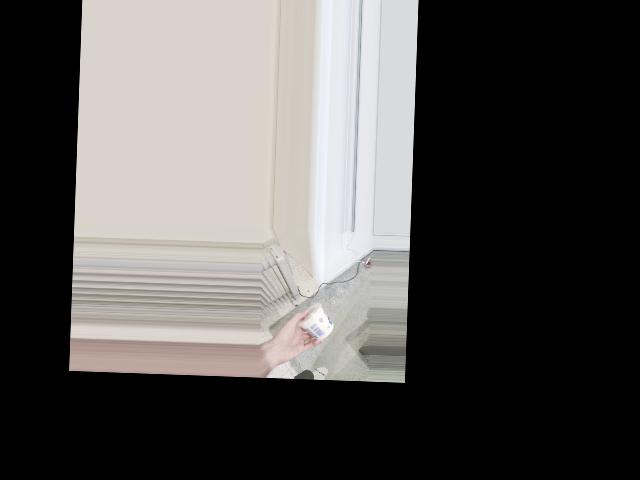cotage: (296, 301, 334, 342)
